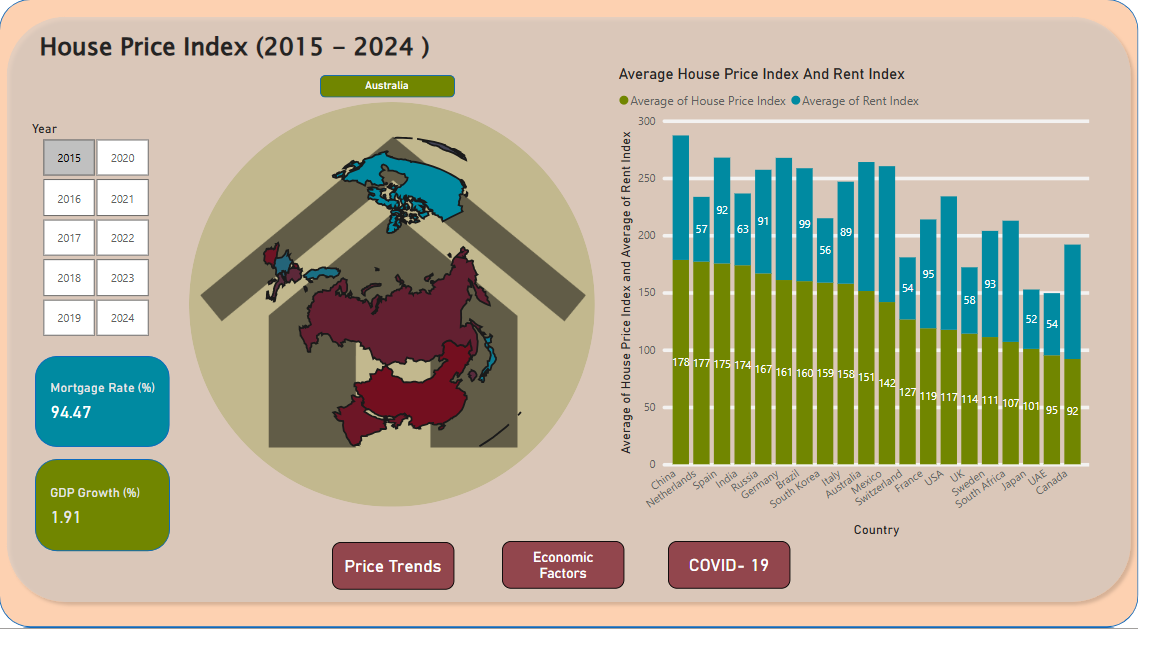

Layout of this report page (visuals, bound fields, positions):
{"tool":"powerbi","page":{"name":"Home","canvas":[1280,720],"ordinal":0},"visuals":[{"type":"shape","box":[0,21.8,1266.4,698.2],"z":1000},{"type":"shape","box":[0,33.8,1266.2,667.5],"z":1500},{"type":"shape","box":[211.2,136.2,451.2,450],"z":2000},{"type":"image","box":[218.8,128.8,437.5,437.5],"z":3000},{"type":"slicer","fields":{"Values":["House_Market_Price.Year"]},"box":[23.3,153.3,166.7,250],"z":4000},{"type":"columnChart","title":"Average House Price Index And Rent Index","fields":{"Category":["House_Market_Price.Country"],"Y":["Avg(House_Market_Price.House Price Index)","Avg(House_Market_Price.Rent Index)"]},"box":[682.9,95.7,532.9,530],"z":5000},{"type":"shapeMap","fields":{"Category":["House_Market_Price.Country"],"Value":["Avg(House_Market_Price.House Price Index)"]},"box":[212.5,152.5,450,391.2],"z":6000},{"type":"textbox","box":[40,50,526.2,91.2],"z":7000},{"type":"shape","box":[40,418.8,150,101.2],"z":8000},{"type":"shape","box":[40,533.8,150,102.5],"z":9000},{"type":"cardVisual","fields":{"Data":["Sum(House_Market_Price.Mortgage Rate (%))"]},"box":[40,418.8,150,100],"z":10000},{"type":"cardVisual","fields":{"Data":["Avg(House_Market_Price.GDP Growth (%))"]},"box":[40,535,156.2,100],"z":11000},{"type":"shape","box":[356.2,106.2,150,25],"z":12000},{"type":"cardVisual","fields":{"Data":["Min(House_Market_Price.Country)"]},"box":[338.8,90.6,184.4,50],"z":13000},{"type":"actionButton","box":[370.5,625.4,135.7,52.9],"z":14000},{"type":"actionButton","box":[559.1,623.9,135.7,52.9],"z":15000},{"type":"actionButton","box":[743.4,623.9,135.7,52.9],"z":16000}]}

Visuals, with their boxes in screenshot pixels (x1, y1, x2, y2), scaled from the page's 1280x720 canvas onto the 1152x648 screenshot:
shape: [0, 20, 1140, 647]
shape: [0, 30, 1140, 631]
shape: [190, 123, 596, 528]
image: [197, 116, 591, 510]
slicer - House_Market_Price.Year: [21, 138, 171, 363]
"Average House Price Index And Rent Index" columnChart: [615, 86, 1094, 563]
shapeMap - House_Market_Price.Country x Avg(House_Market_Price.House Price Index): [191, 137, 596, 489]
textbox: [36, 45, 510, 127]
shape: [36, 377, 171, 468]
shape: [36, 480, 171, 573]
cardVisual - Sum(House_Market_Price.Mortgage Rate (%)): [36, 377, 171, 467]
cardVisual - Avg(House_Market_Price.GDP Growth (%)): [36, 482, 177, 572]
shape: [321, 96, 456, 118]
cardVisual - Min(House_Market_Price.Country): [305, 82, 471, 127]
actionButton: [333, 563, 456, 610]
actionButton: [503, 562, 625, 609]
actionButton: [669, 562, 791, 609]
